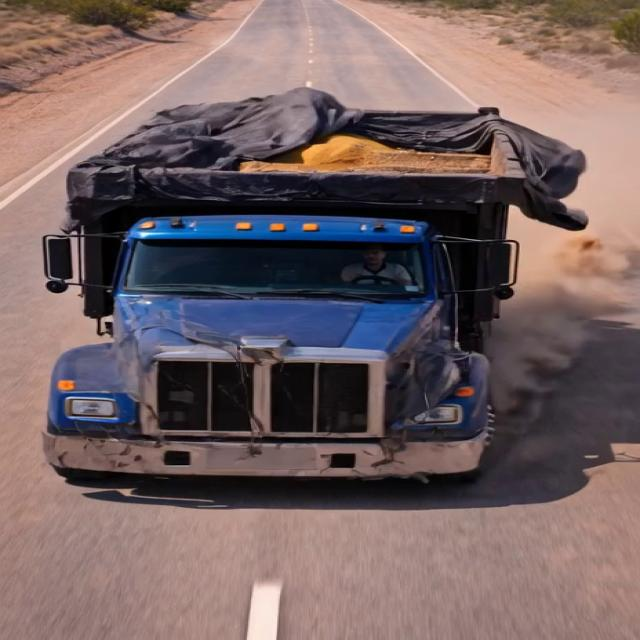trailer: (64, 92, 615, 228)
truck: (4, 52, 636, 486)
